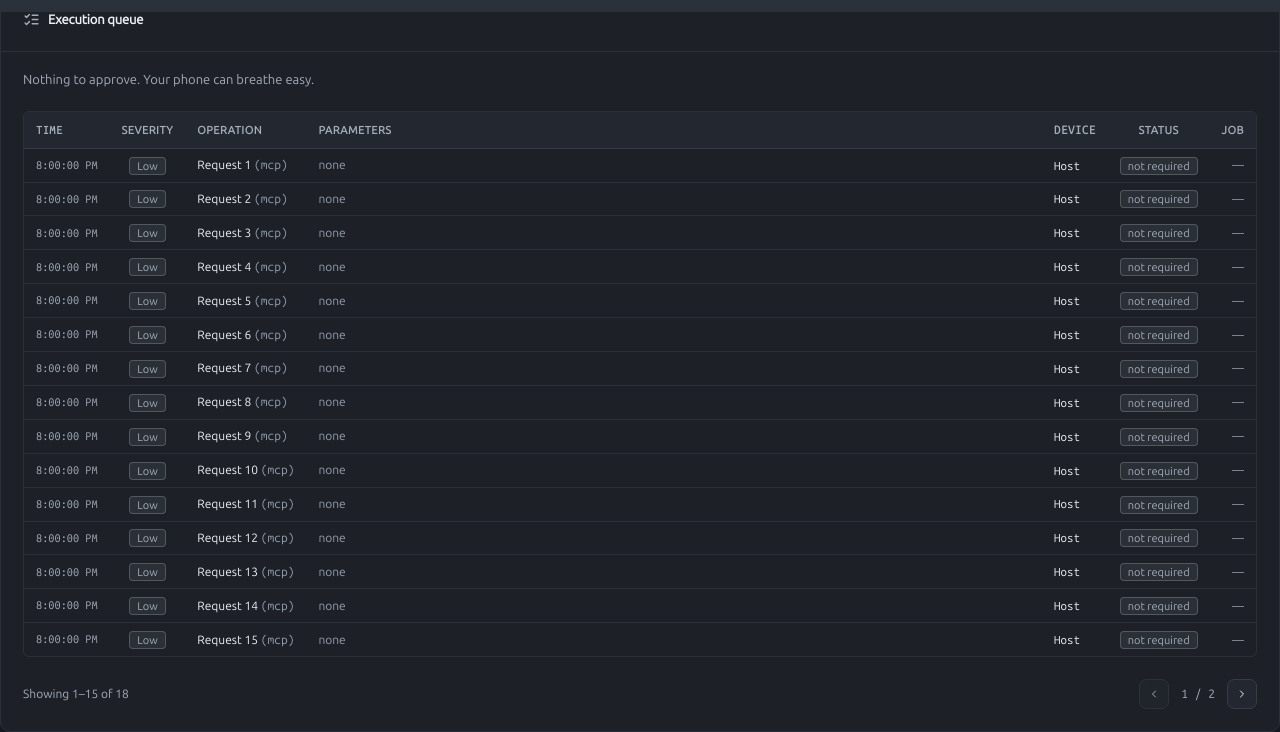
Scenario: AiIntegrationPage › paginates the execution queue when there are more than 15 requests
(page scrolled)
Expected: the text "Request 1" is shown, [197, 158, 251, 171]
Expected: the text "Request 16" is not shown
Click the button named "Next page": (1242, 694) [1227, 679, 1257, 709]
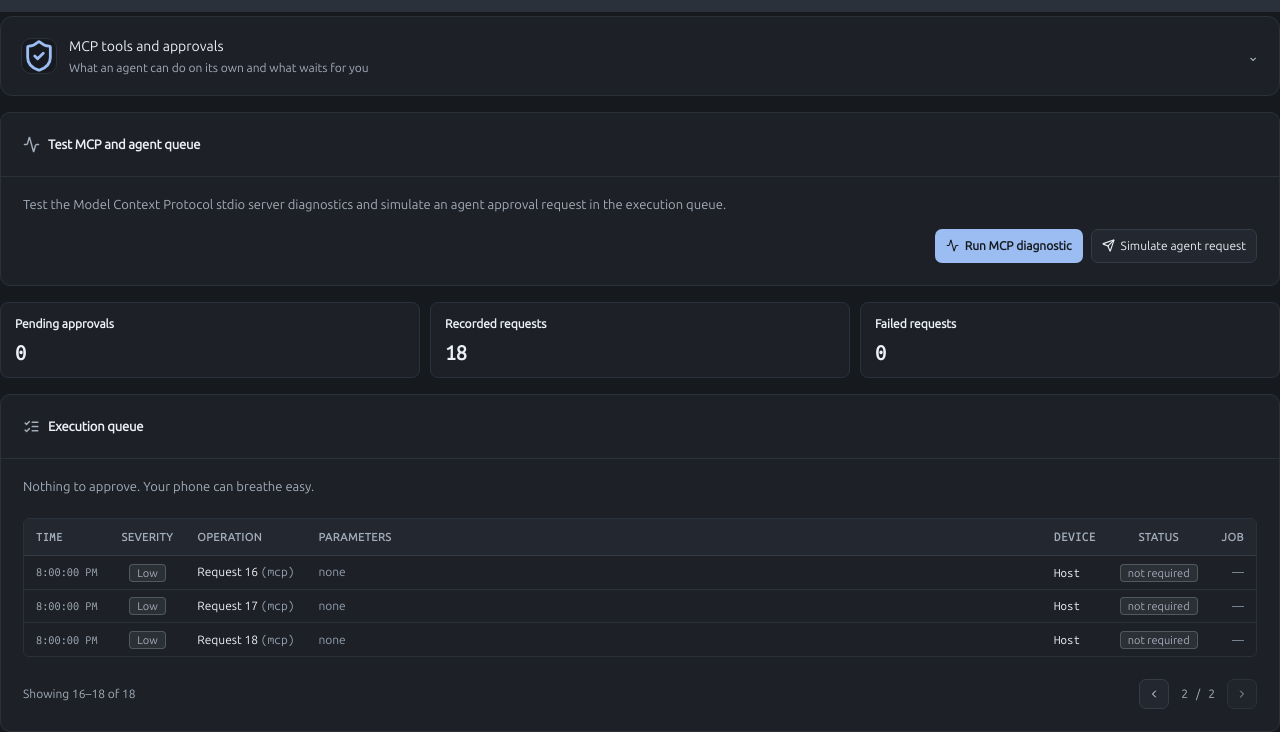
Result: the text "Request 16" is shown at [197, 565, 258, 578]
Result: the text "Showing 16–18 of 18" is shown at [23, 685, 136, 703]
